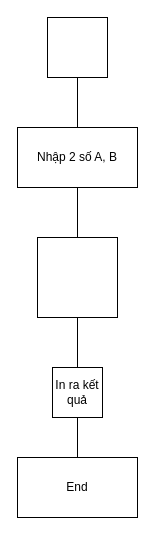
The diagram is 155 pixels wide and 535 high, and some of its shapes have lost their labels. The shapes that lost their labels are listed below. From the top down, each one's centre as x and y in pixels, then its label:
At pixel 77 47: "Start".
At pixel 77 277: "Tính tổng: A + B".
